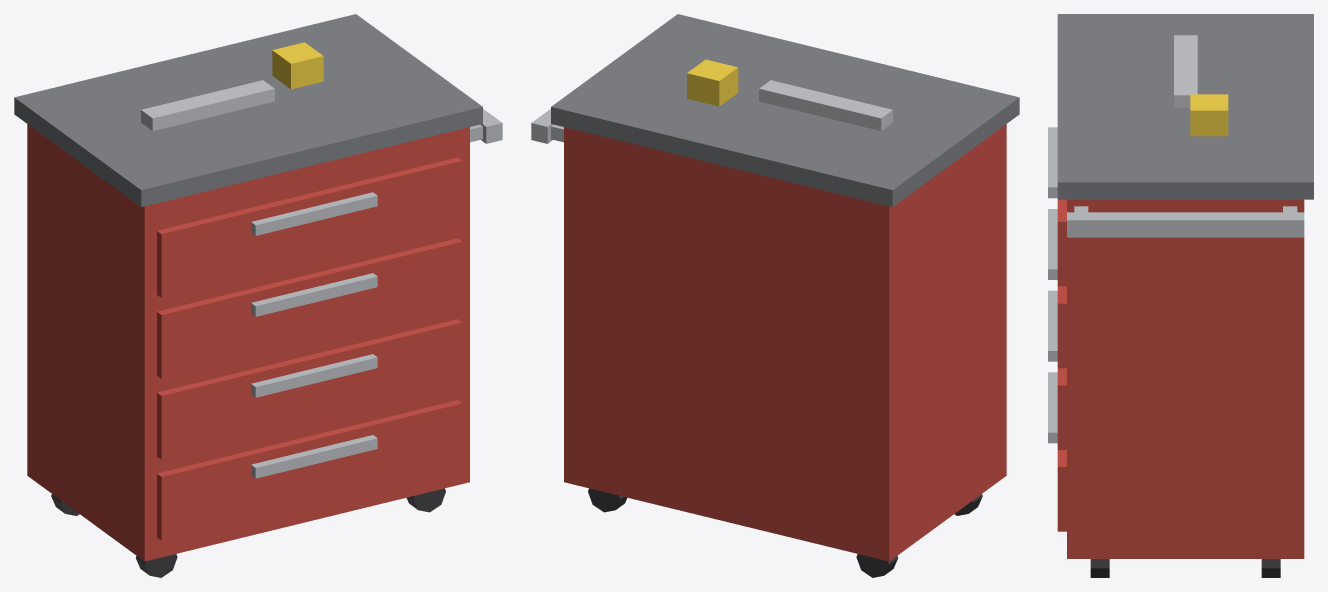
The model's file is SM_Tool_Cart.glb.
3 views of the same model, side by side, from view 1: azimuth 30°, elevation 25°; view 2: azimuth 150°, elevation 25°; view 3: azimuth 270°, elevation 25° (orthographic).
Visible parts, largest first — view 1: SM_Tool_Cart; view 2: SM_Tool_Cart; view 3: SM_Tool_Cart.
Boxes of the visible parts, x1,y1,x2,y2 form: SM_Tool_Cart: [14, 14, 502, 577]; SM_Tool_Cart: [531, 14, 1019, 577]; SM_Tool_Cart: [1048, 14, 1313, 577].
Bounding box in the file's own units: 0.9 × 1.02 × 0.56.
